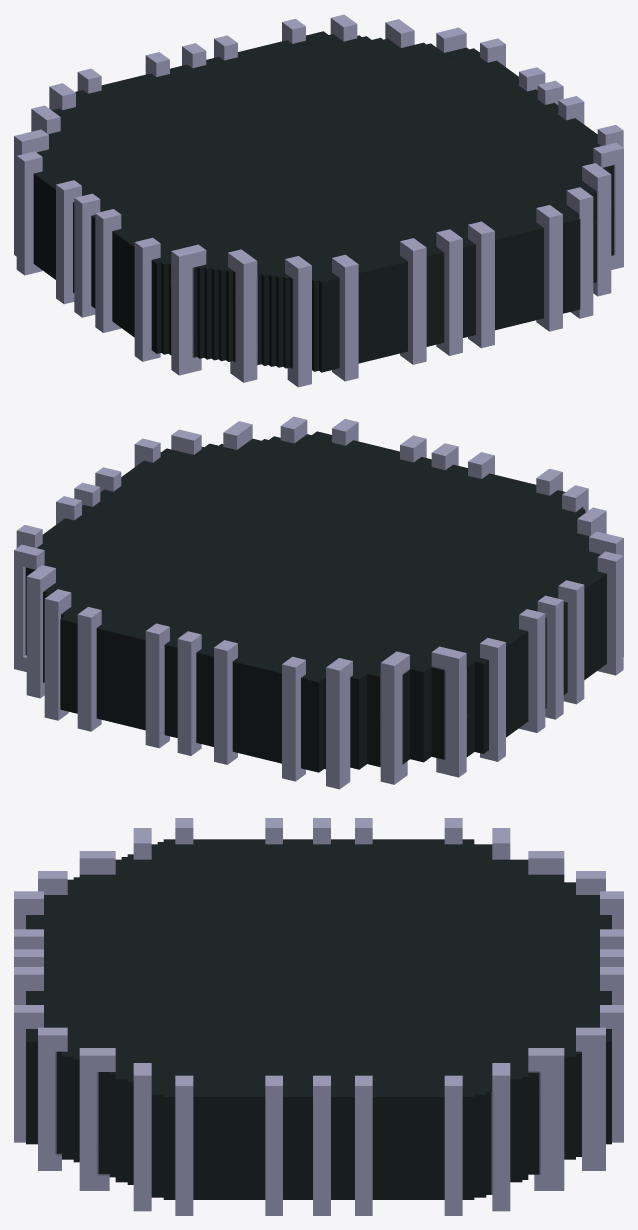
File: Boss_2_Body.fbx
The picture shows the model from 3 angles, top to bottom: view 1: azimuth 30°, elevation 25°; view 2: azimuth 150°, elevation 25°; view 3: azimuth 270°, elevation 25°; orthographic projection. The views are drawn at different scales.
Visible parts, largest first — view 1: Object; view 2: Object; view 3: Object.
Part boxes in pixels (x1,y1,x2,y2): Object: (14, 14, 623, 387); Object: (14, 416, 623, 789); Object: (14, 818, 623, 1215).
Bounding box in the file's own units: 106 × 25 × 102.
